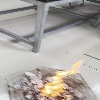fire: (41, 59, 82, 100)
